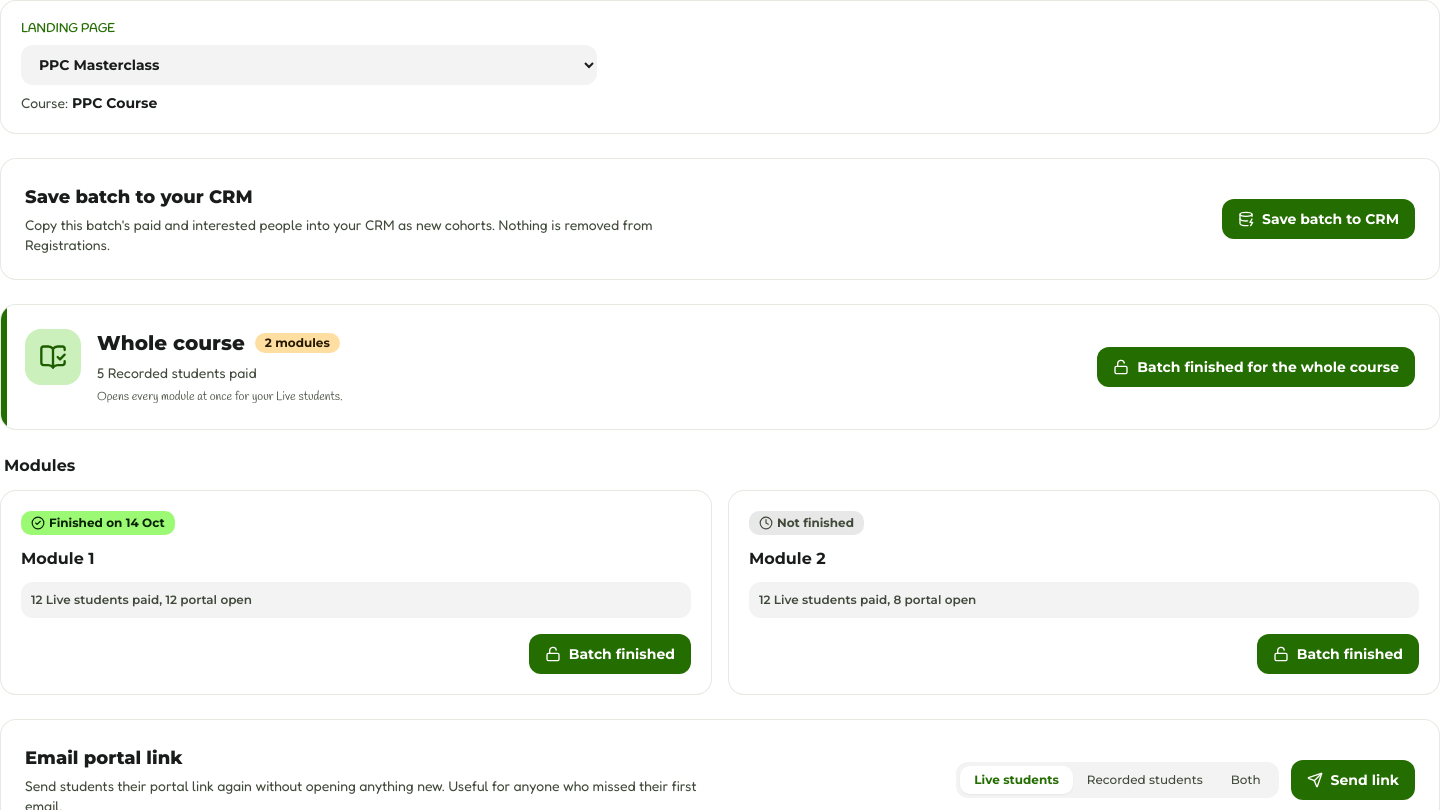
Test: BatchAccessPanel › email link: audience choice is posted after confirming
expect the heading "Module 2" is shown: met, box [749,549,826,568]
Click the button "Recorded students": (1145,780) [1073,766,1217,794]
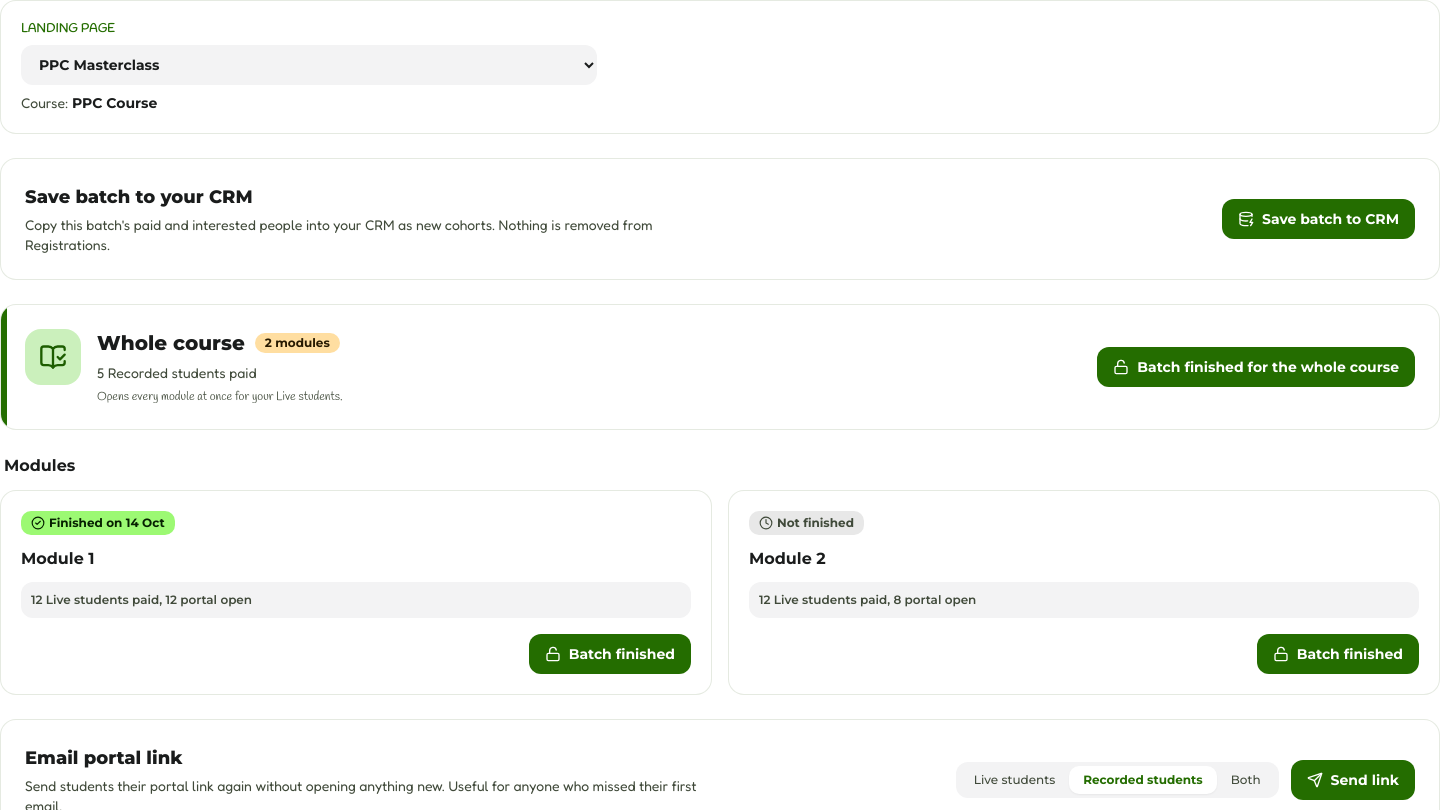
Click the button "Send link": (1353,780) [1291,760,1415,800]
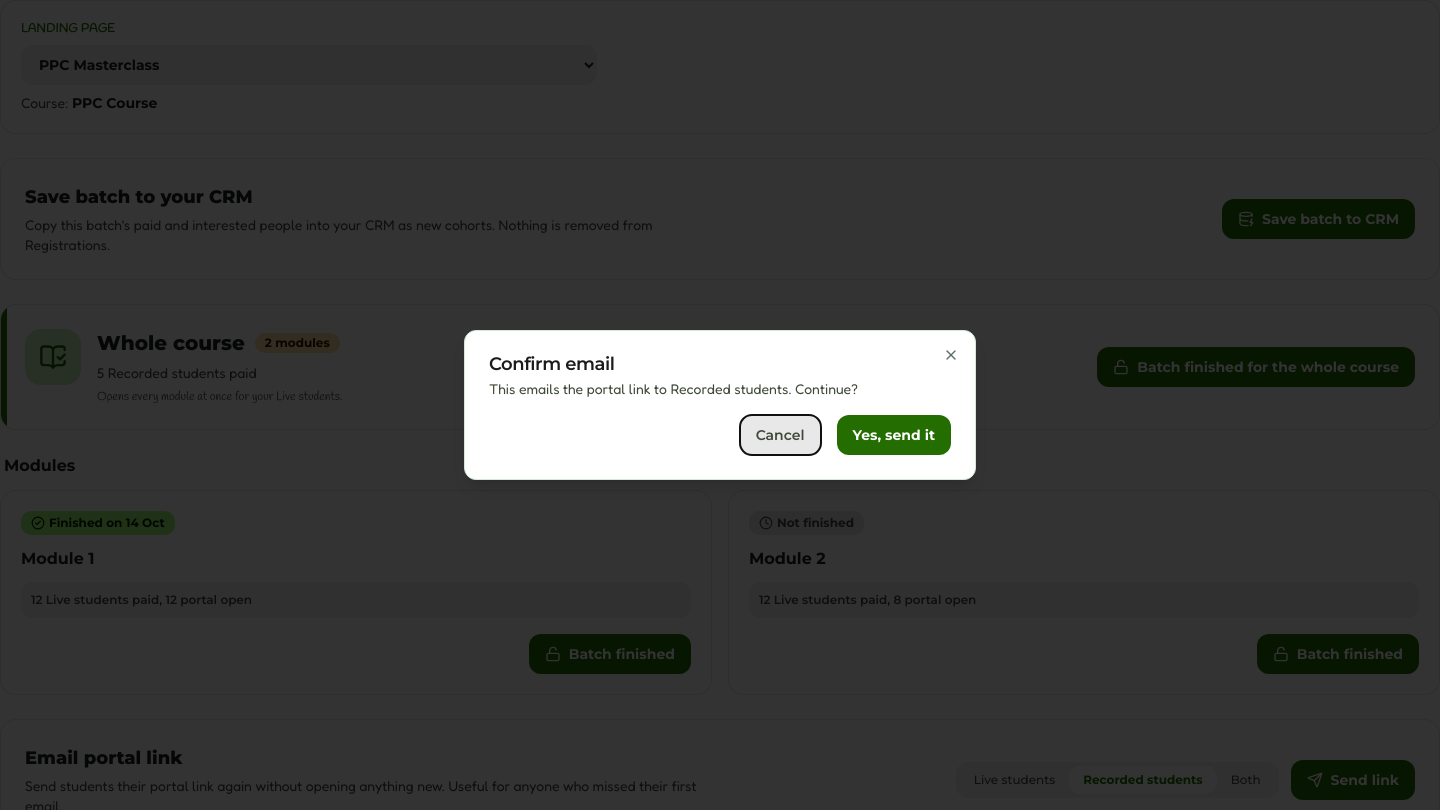
Click the button "Yes, send it": (894,435) [836,415,951,455]
(page scrolled)
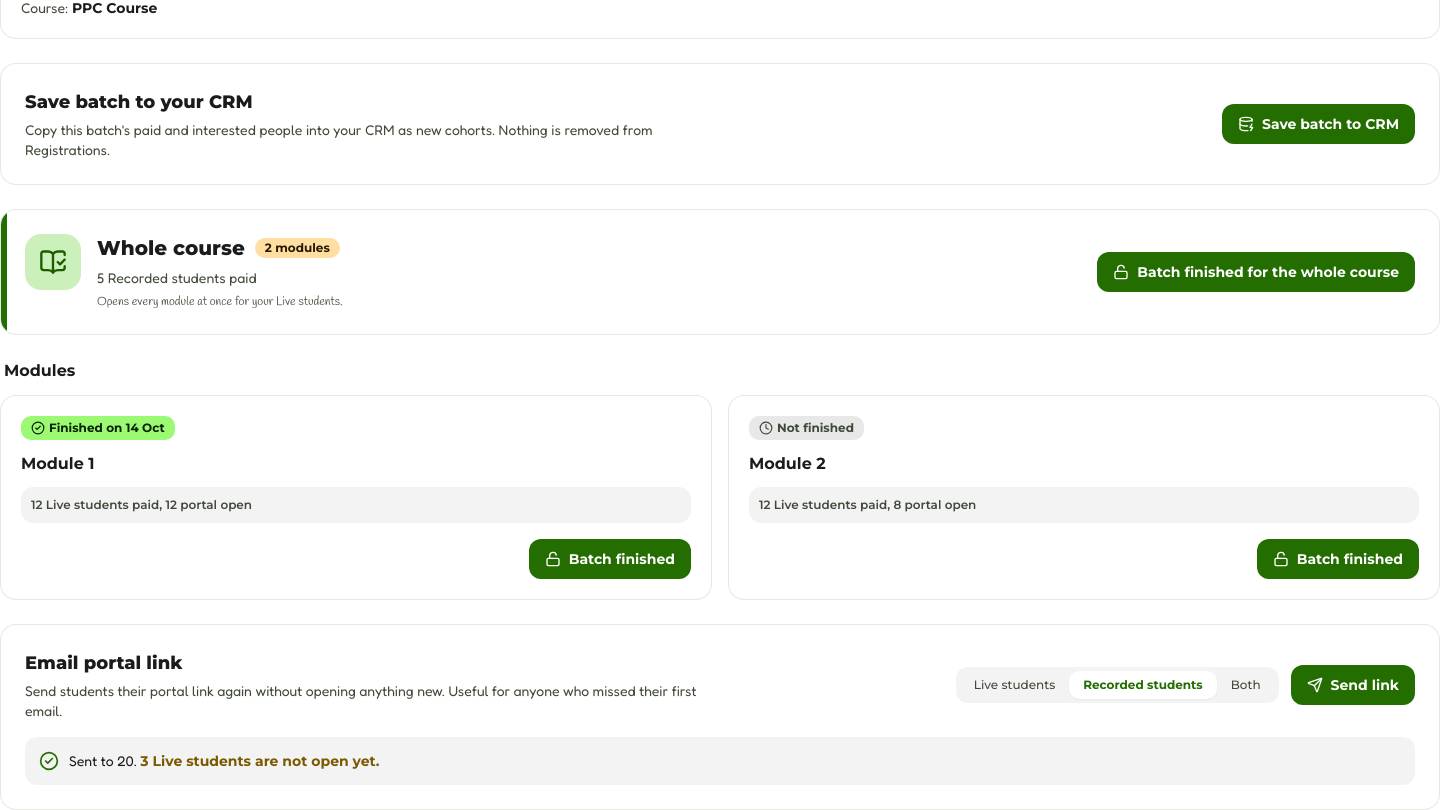
expect the text "Sent to 20. 3 Live students are not open yet." is shown: met, box [69,751,380,771]
expect the text "3 Live students are not open yet." is shown: met, box [140,752,380,770]
